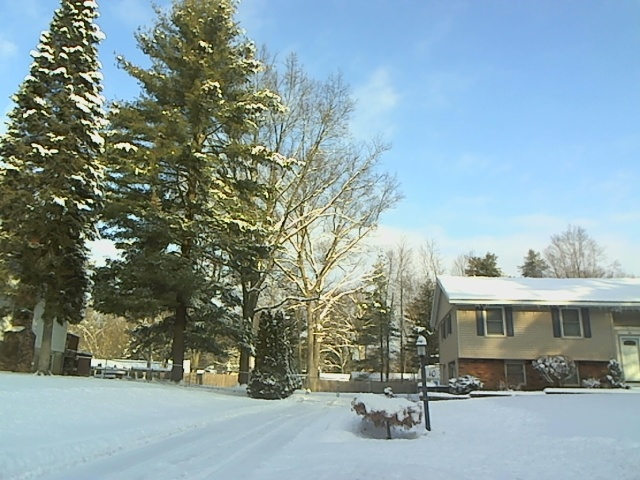Unploughed: (90, 405, 332, 475)
